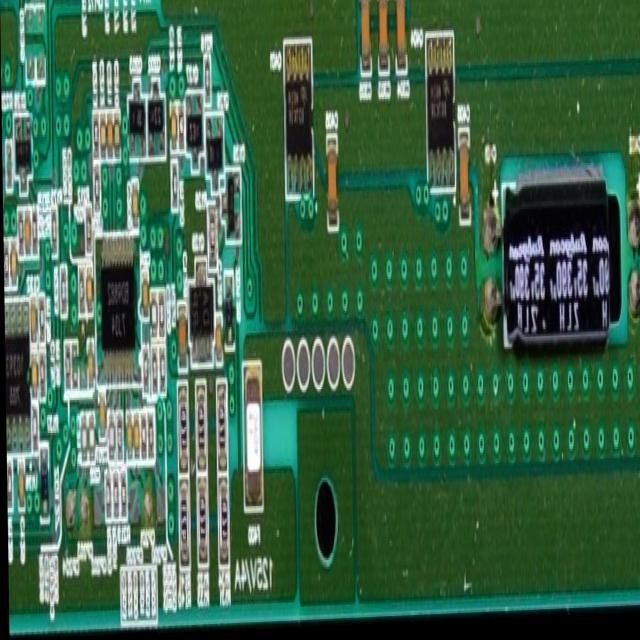IC: (3, 293, 30, 455)
capacitor: (498, 156, 627, 367), (326, 134, 338, 233), (458, 134, 470, 230), (360, 0, 372, 78), (378, 0, 389, 83), (396, 0, 407, 79), (176, 303, 186, 376), (140, 273, 149, 325), (86, 343, 94, 399), (169, 105, 177, 156), (214, 316, 222, 366), (23, 208, 31, 257), (17, 459, 24, 514), (125, 415, 132, 468), (132, 177, 138, 237), (107, 112, 114, 162), (86, 259, 92, 317), (32, 350, 38, 405), (31, 293, 37, 345), (100, 112, 106, 163), (10, 243, 17, 285), (115, 114, 121, 162), (133, 410, 138, 461), (99, 395, 103, 436)
resistor: (193, 384, 206, 472), (176, 385, 188, 478), (177, 481, 189, 574), (195, 480, 207, 569), (216, 384, 226, 476), (216, 482, 226, 569), (207, 202, 216, 269), (57, 264, 66, 316), (4, 143, 13, 193), (77, 266, 85, 322), (50, 205, 57, 265), (30, 407, 38, 459), (63, 337, 70, 390), (103, 472, 110, 524), (119, 467, 126, 518), (150, 350, 157, 400), (79, 412, 86, 462), (115, 415, 122, 464), (158, 290, 165, 338), (87, 412, 93, 467), (92, 111, 99, 158), (32, 206, 38, 260), (38, 295, 44, 348), (5, 460, 11, 513), (112, 470, 118, 523), (170, 163, 177, 208), (85, 204, 91, 256), (158, 345, 164, 397), (142, 346, 148, 398), (150, 295, 157, 339), (178, 105, 184, 156), (17, 209, 23, 260), (147, 411, 153, 462), (39, 352, 45, 402), (107, 413, 113, 463), (3, 239, 9, 288), (204, 61, 210, 107), (94, 165, 100, 211), (140, 414, 146, 460)
transistor: (425, 34, 456, 202), (283, 48, 314, 203)
